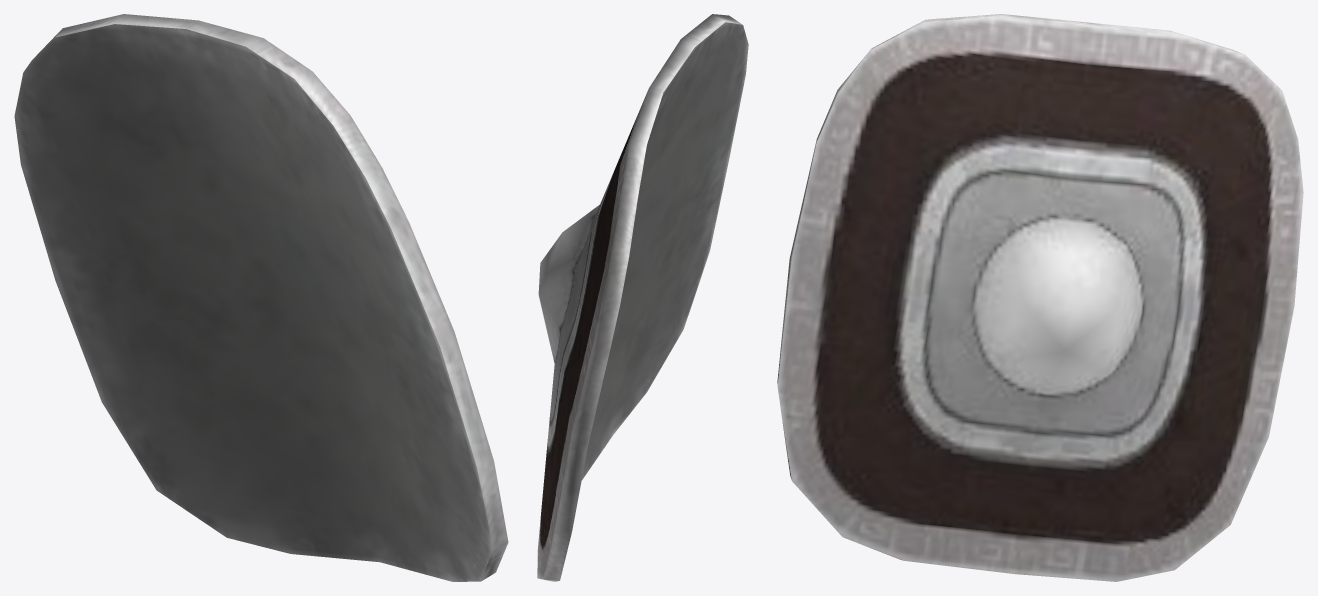
Rendered from shield-bronzeshields.glb.
The picture shows the model from 3 angles, left to right: view 1: azimuth 30°, elevation 25°; view 2: azimuth 150°, elevation 25°; view 3: azimuth 270°, elevation 25°; orthographic projection. The views are drawn at different scales.
Size of the model in its own units: 0.2656 by 0.6153 by 0.5591.
Materials: 1 (1 with a texture image).
